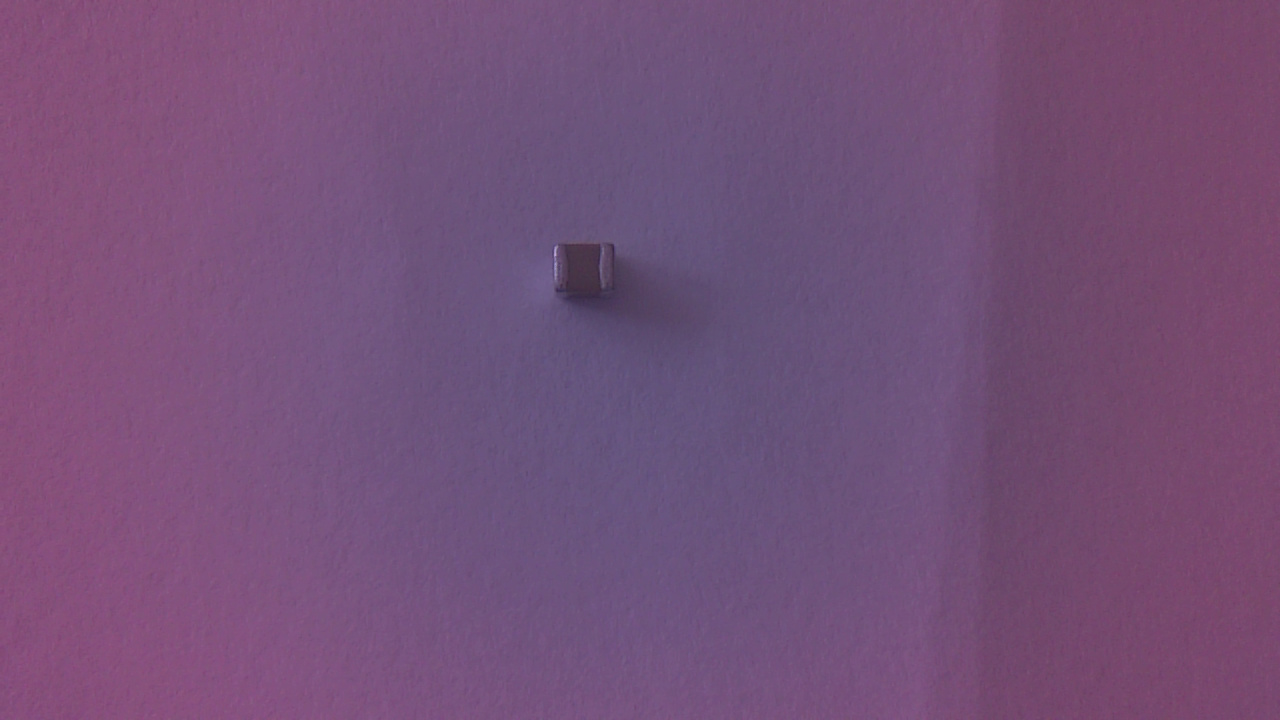Condensator: (551, 240, 627, 311)
